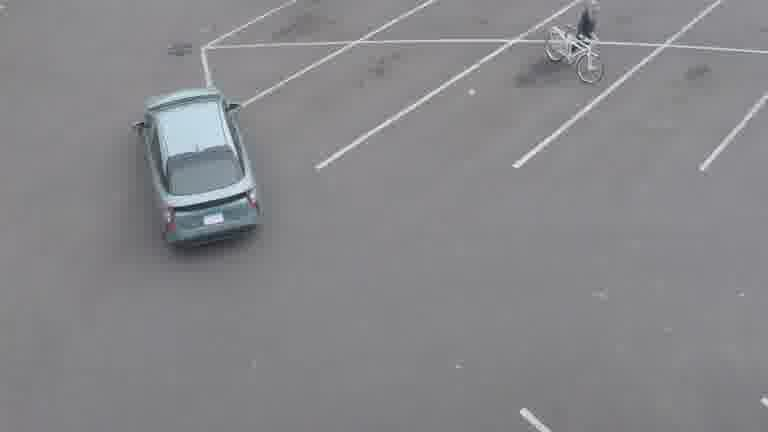car: (546, 1, 607, 86)
person: (131, 87, 266, 254)
